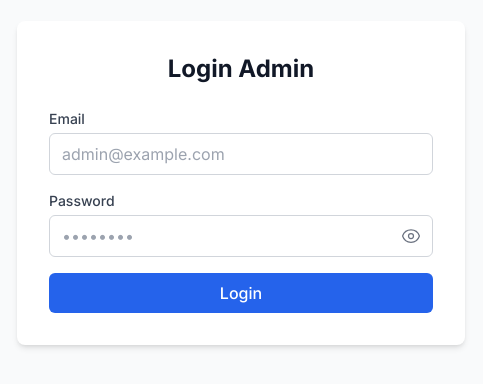
Test: AdminLoginPage › displays error message "Email atau password salah" on failed login
In the field labelled "Email": (241, 154) x1=49 y1=133 x2=433 y2=175, type "wrong@test.com"
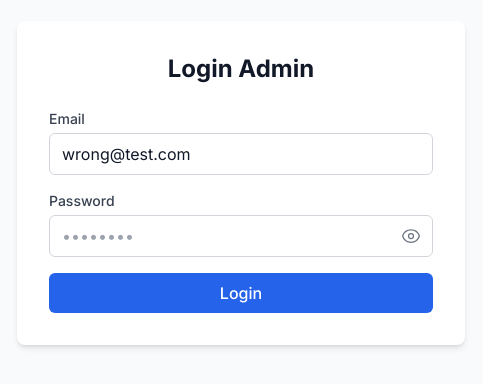
In the password field labelled "Password": (241, 236) x1=49 y1=215 x2=433 y2=257, type "wrongpass"
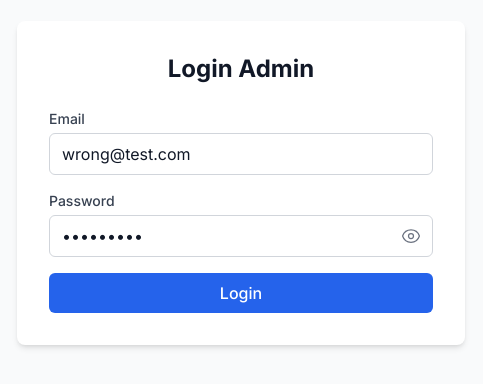
Click the button "Login": (241, 293) x1=49 y1=273 x2=433 y2=313
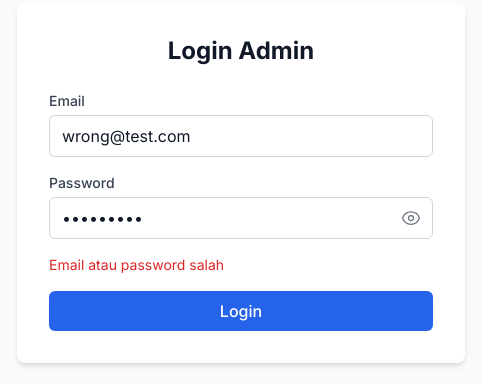
Result: the text "Email atau password salah" is shown at x1=49 y1=256 x2=224 y2=273
